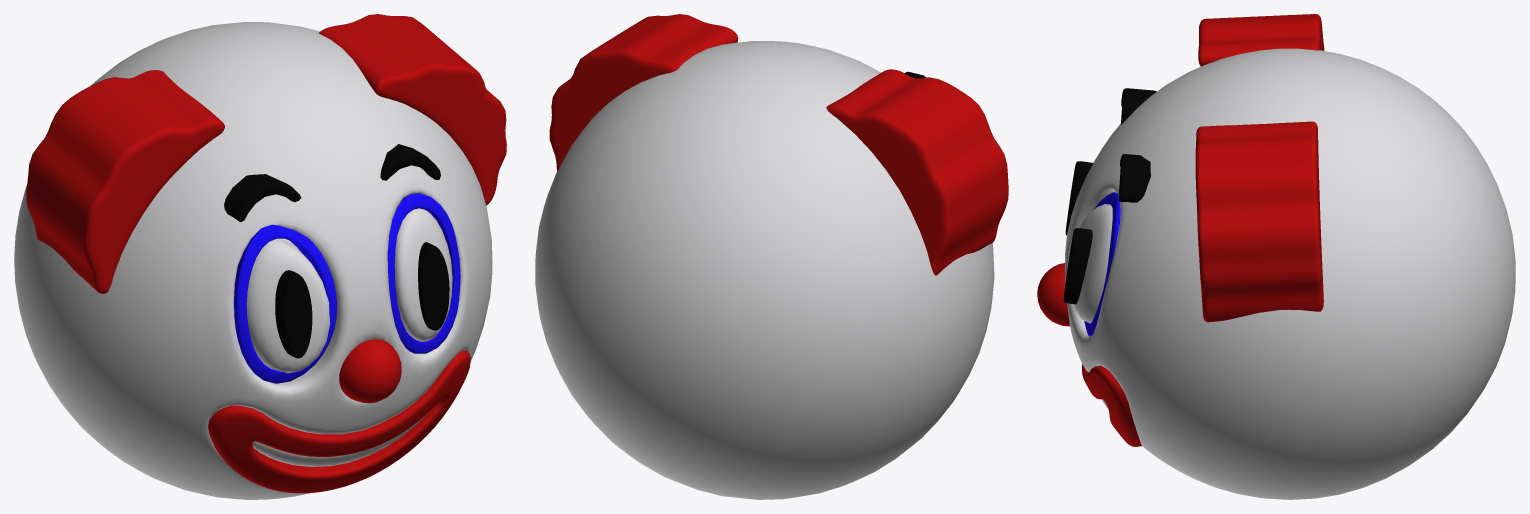
File: clown FBX.FBX
3 renders of one model, left to right at view 1: azimuth 30°, elevation 25°; view 2: azimuth 150°, elevation 25°; view 3: azimuth 270°, elevation 25°, orthographic. The views are drawn at different scales.
Parts seen in each view (by area): view 1: Group53716, ZBrush_defualt_group001, Group002, Group24186, Group55708, Group31867, Group004, ZBrush_defualt_group003, ZBrush_defualt_group002, Group003; view 2: Group53716, ZBrush_defualt_group001, Group002; view 3: Group53716, Group002, ZBrush_defualt_group001, Group24186, Group31867, ZBrush_defualt_group003, Group003, Group55708, ZBrush_defualt_group002, Group004.
Part boxes in pixels (x1=…): Group53716: x1=14, y1=22, x2=492, y2=499; ZBrush_defualt_group001: x1=26, y1=70, x2=224, y2=293; Group002: x1=319, y1=14, x2=506, y2=205; Group24186: x1=208, y1=350, x2=470, y2=493; Group55708: x1=234, y1=193, x2=460, y2=383; Group31867: x1=339, y1=339, x2=401, y2=403; Group004: x1=275, y1=270, x2=312, y2=358; ZBrush_defualt_group003: x1=418, y1=242, x2=449, y2=330; ZBrush_defualt_group002: x1=224, y1=174, x2=301, y2=221; Group003: x1=380, y1=144, x2=440, y2=180; Group53716: x1=535, y1=41, x2=994, y2=499; ZBrush_defualt_group001: x1=826, y1=69, x2=1008, y2=275; Group002: x1=549, y1=14, x2=738, y2=171; Group53716: x1=1065, y1=48, x2=1515, y2=499; Group002: x1=1195, y1=121, x2=1323, y2=322; ZBrush_defualt_group001: x1=1198, y1=14, x2=1324, y2=66; Group24186: x1=1082, y1=364, x2=1141, y2=446; Group31867: x1=1037, y1=263, x2=1069, y2=326; ZBrush_defualt_group003: x1=1063, y1=228, x2=1092, y2=304; Group003: x1=1118, y1=154, x2=1150, y2=202; Group55708: x1=1080, y1=189, x2=1120, y2=336; ZBrush_defualt_group002: x1=1121, y1=88, x2=1156, y2=124; Group004: x1=1065, y1=161, x2=1092, y2=235.
Size of the model in its own units: 22.17 by 21.82 by 23.14.
